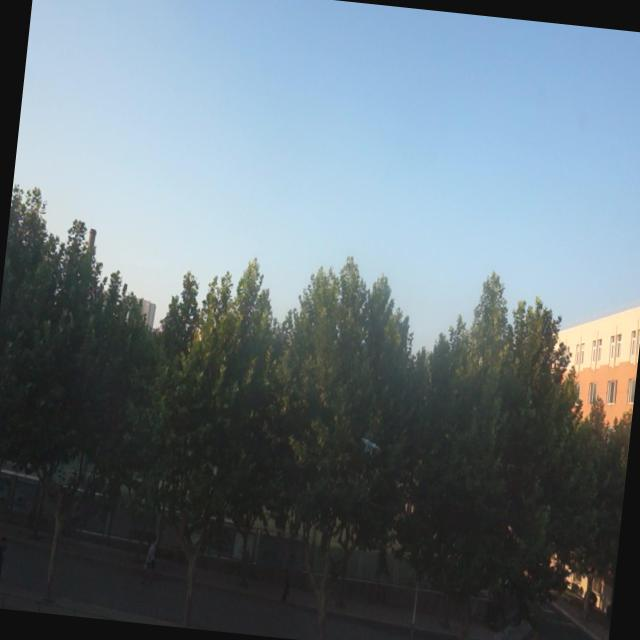drone: (357, 434, 383, 456)
